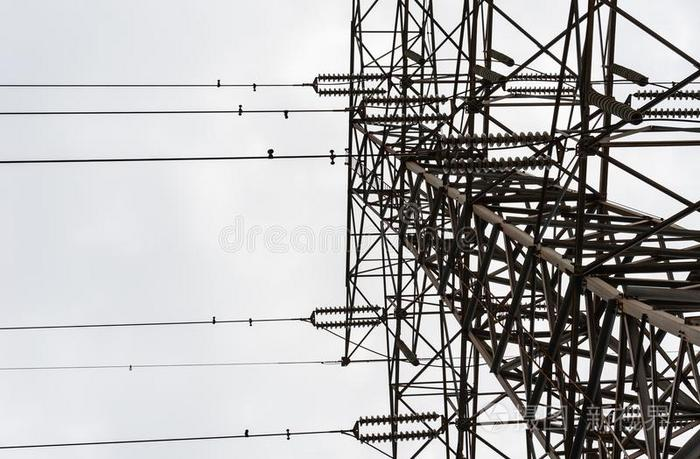insulator: (439, 155, 553, 174), (438, 131, 551, 149), (585, 90, 639, 125), (359, 94, 451, 108), (366, 113, 447, 128), (357, 411, 438, 426), (359, 429, 438, 444), (629, 88, 700, 102), (506, 84, 576, 97), (314, 302, 384, 315), (513, 69, 577, 83), (315, 71, 387, 83), (318, 84, 390, 96), (643, 106, 700, 120), (315, 318, 380, 329)
